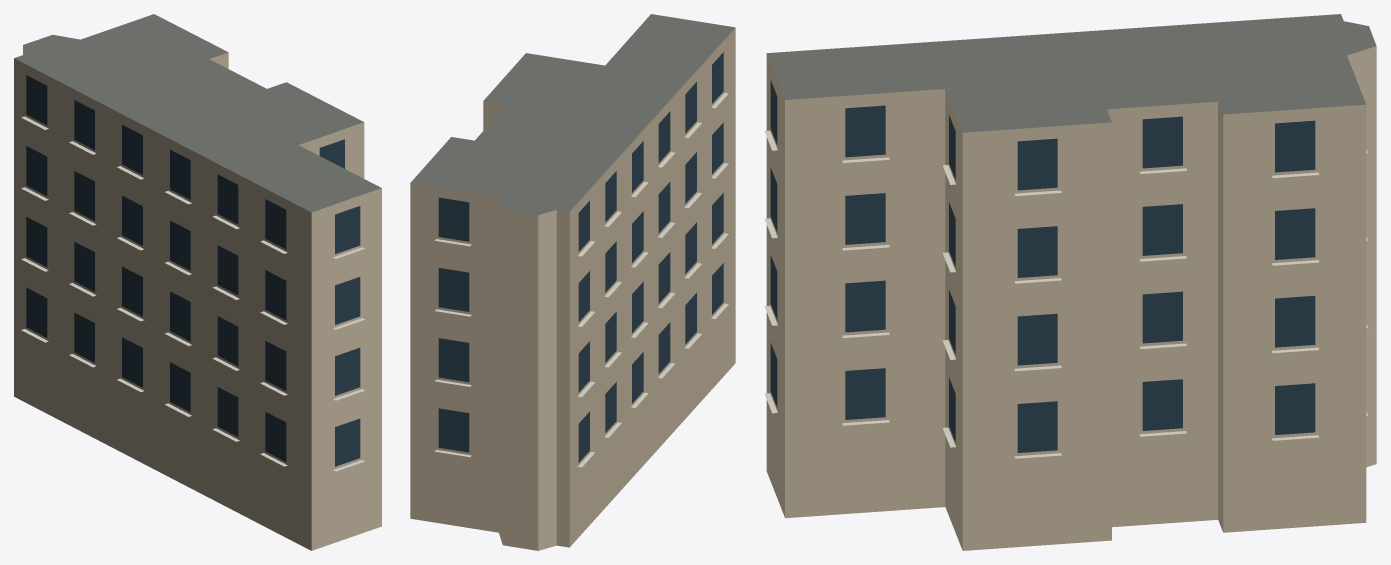
3 renders of one model, left to right at view 1: azimuth 30°, elevation 25°; view 2: azimuth 150°, elevation 25°; view 3: azimuth 270°, elevation 25°, orthographic. The views are drawn at different scales.
Visible parts, largest first — view 1: Footprint 0, Inferred window bays, Window sills; view 2: Footprint 0, Inferred window bays, Window sills; view 3: Footprint 0, Inferred window bays, Window sills.
Boxes of the visible parts, <box> form: Footprint 0: <box>14,14,381,550</box>; Inferred window bays: <box>26,75,360,466</box>; Window sills: <box>21,116,364,471</box>; Footprint 0: <box>410,14,735,550</box>; Inferred window bays: <box>438,52,723,462</box>; Window sills: <box>435,92,728,467</box>; Footprint 0: <box>766,14,1376,550</box>; Inferred window bays: <box>770,80,1315,452</box>; Window sills: <box>764,130,1367,458</box>.
Size of the model in its own units: 8.68 by 14.06 by 18.65.
